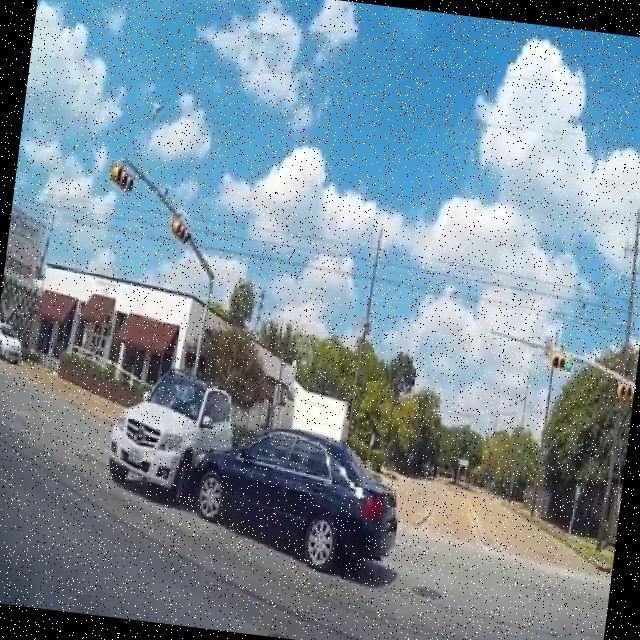accident: (87, 353, 426, 596)
